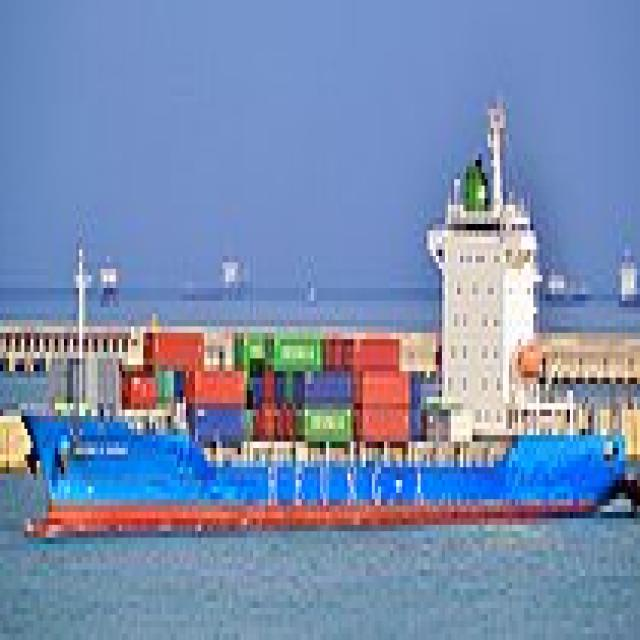Cargo: (15, 83, 625, 538)
